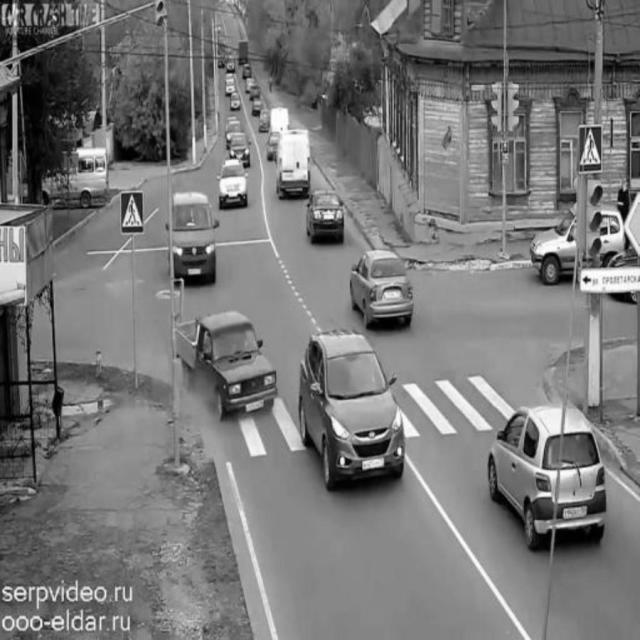vehicle: (299, 329, 405, 499), (491, 400, 604, 537), (173, 311, 276, 417), (533, 206, 629, 286), (350, 248, 412, 329), (169, 191, 217, 279), (277, 129, 313, 200), (306, 189, 344, 246), (218, 159, 248, 207), (229, 133, 253, 163), (233, 38, 249, 64), (227, 88, 242, 115), (258, 105, 272, 131), (246, 76, 260, 94)
